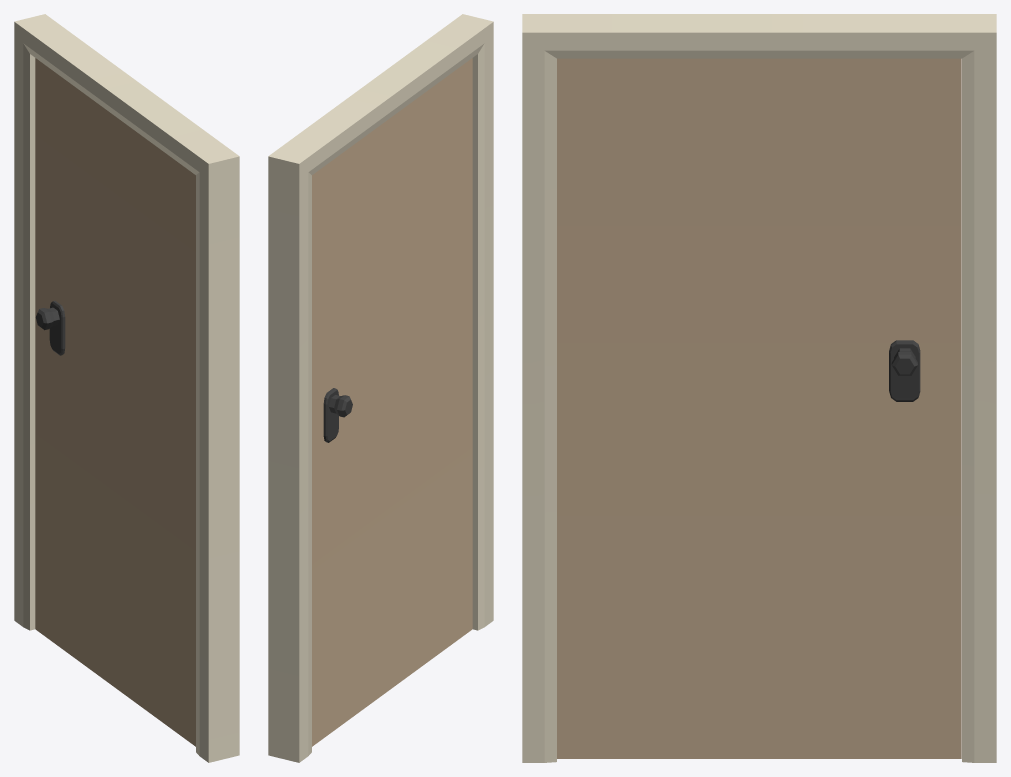
The model's file is Door.fbx.
3 renders of one model, left to right at view 1: azimuth 30°, elevation 25°; view 2: azimuth 150°, elevation 25°; view 3: azimuth 270°, elevation 25°, orthographic. The views are drawn at different scales.
Visible parts, largest first — view 1: Door, Door Frame; view 2: Door, Door Frame; view 3: Door, Door Frame.
Part boxes in pixels (x1=…): Door: x1=35, y1=58, x2=195, y2=746; Door Frame: x1=14, y1=14, x2=239, y2=762; Door: x1=312, y1=58, x2=472, y2=746; Door Frame: x1=268, y1=14, x2=493, y2=762; Door: x1=557, y1=58, x2=961, y2=758; Door Frame: x1=522, y1=14, x2=996, y2=762.
Size of the model in its own units: 22.53 by 233 by 137.
